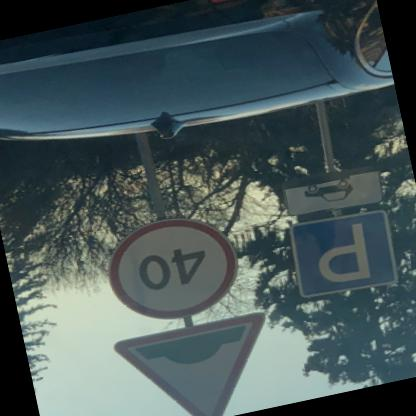speedlimit: (99, 208, 248, 332)
